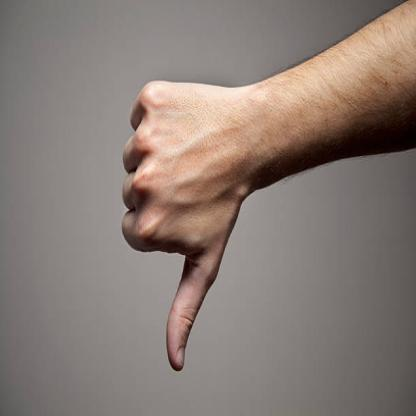thumb_down: (118, 77, 250, 375)
